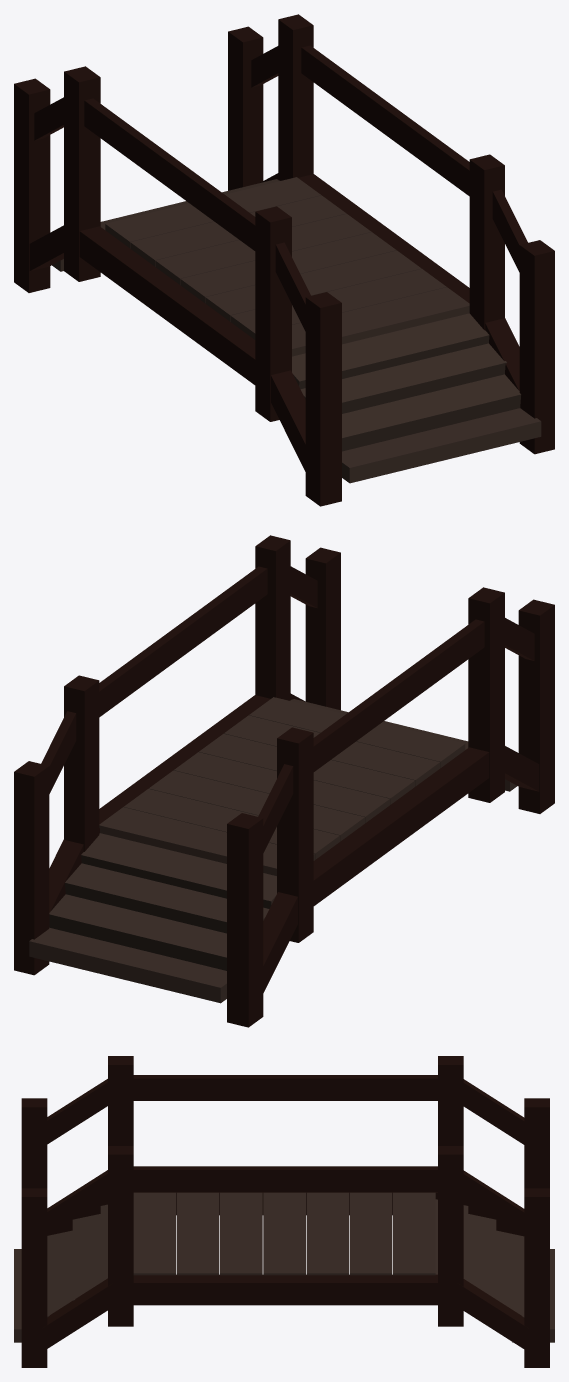
The model's file is Bridge.obj.
3 views of the same model, one above another, from view 1: azimuth 30°, elevation 25°; view 2: azimuth 150°, elevation 25°; view 3: azimuth 270°, elevation 25° (orthographic). The views are drawn at different scales.
Visible parts, largest first — view 1: Box002, Box013, Box030, Box015, Box016, Box032, Box033, Box014, Box011, Box008, Box017, Box031 (+18 smaller); view 2: Box002, Box032, Box034, Box028, Box029, Box013, Box014, Box033, Box011, Box008, Box027, Box035 (+18 smaller); view 3: Box005, Box008, Box011, Box030, Box034, Box031, Box035, Box019, Box024, Box021, Box022, Box025 (+23 smaller).
Boxes of the visible parts, left/top/right/bottom form: Box002: left=79, top=226, right=255, bottom=384; Box013: left=305, top=292, right=341, bottom=506; Box030: left=519, top=240, right=554, bottom=454; Box015: left=342, top=408, right=541, bottom=483; Box016: left=342, top=374, right=521, bottom=451; Box032: left=14, top=78, right=50, bottom=292; Box033: left=64, top=66, right=100, bottom=281; Box014: left=255, top=206, right=291, bottom=421; Box011: left=84, top=98, right=255, bottom=250; Box008: left=301, top=45, right=469, bottom=196; Box017: left=300, top=343, right=507, bottom=413; Box031: left=469, top=154, right=504, bottom=330; Box002: left=313, top=747, right=489, bottom=905; Box032: left=227, top=813, right=263, bottom=1027; Box034: left=14, top=761, right=49, bottom=975; Box028: left=49, top=894, right=226, bottom=970; Box029: left=29, top=927, right=226, bottom=1003; Box013: left=518, top=599, right=554, bottom=813; Box014: left=468, top=587, right=504, bottom=802; Box033: left=277, top=727, right=313, bottom=942; Box011: left=313, top=619, right=484, bottom=771; Box008: left=99, top=566, right=267, bottom=717; Box027: left=65, top=863, right=269, bottom=933; Box035: left=64, top=675, right=99, bottom=851; Box005: left=113, top=1274, right=457, bottom=1305; Box008: left=133, top=1166, right=437, bottom=1192; Box011: left=133, top=1075, right=437, bottom=1100; Box030: left=21, top=1188, right=47, bottom=1367; Box034: left=524, top=1188, right=549, bottom=1367; Box031: left=108, top=1146, right=133, bottom=1326; Box035: left=438, top=1146, right=463, bottom=1326; Box019: left=133, top=1192, right=176, bottom=1275; Box024: left=349, top=1192, right=392, bottom=1275; Box021: left=220, top=1192, right=262, bottom=1275; Box022: left=263, top=1192, right=305, bottom=1275; Box025: left=393, top=1192, right=435, bottom=1275.
Bounding box in the file's own units: 28.02 × 28.2 × 64.82.
